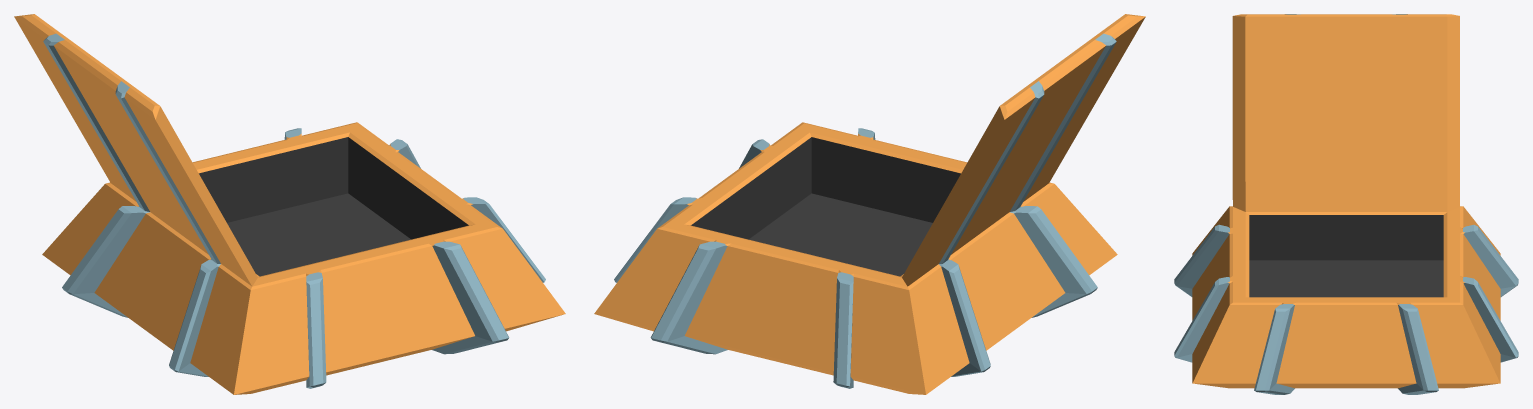
The model's file is Container_final.glb.
3 views of the same model, side by side, from view 1: azimuth 30°, elevation 25°; view 2: azimuth 150°, elevation 25°; view 3: azimuth 270°, elevation 25° (orthographic). The views are drawn at different scales.
Visible parts, largest first — view 1: Cube; view 2: Cube; view 3: Cube.
Boxes of the visible parts, bbox=[...] form: Cube: bbox=[14, 14, 565, 394]; Cube: bbox=[594, 14, 1145, 394]; Cube: bbox=[1174, 14, 1518, 394].
Size of the model in its own units: 3.25 by 2.3 by 2.96.
